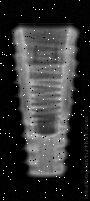Novodent: (10, 24, 81, 179)
